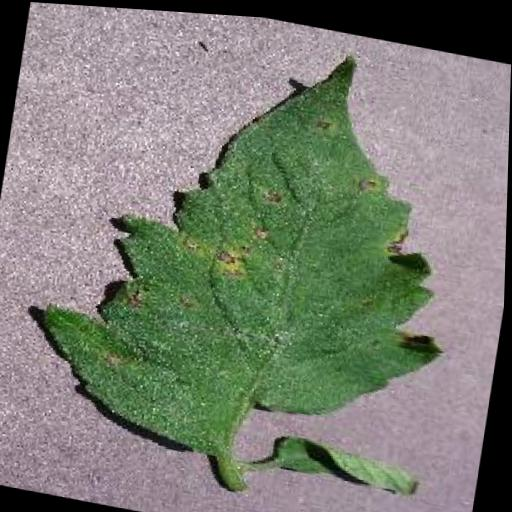Septoria: (22, 2, 487, 491)
